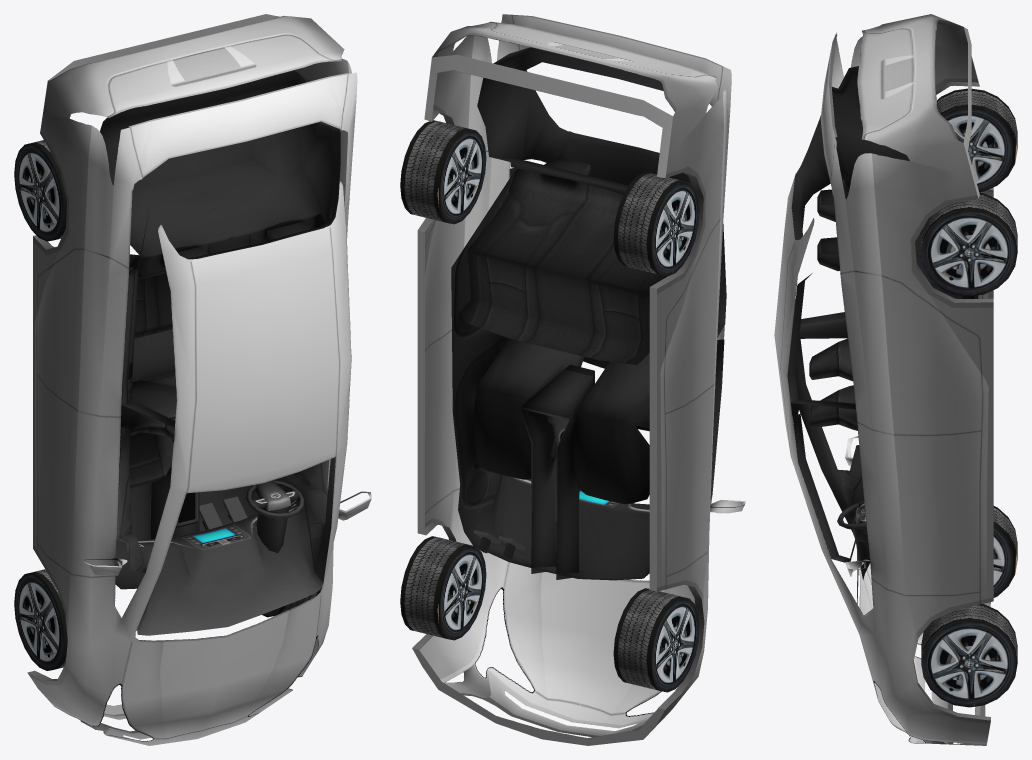
The model's file is Hybrid_body.obj.
The picture shows the model from 3 angles, left to right: view 1: azimuth 30°, elevation 25°; view 2: azimuth 150°, elevation 25°; view 3: azimuth 270°, elevation 25°; orthographic projection. The views are drawn at different scales.
Parts seen in each view (by area): view 1: Hybrid, Hybrid_Interior, Wheel_Front_Right, Wheels_Rear, Steering_Wheel; view 2: Hybrid, Hybrid_Interior, Wheels_Rear, Wheel_Front_Left_, Wheel_Front_Right; view 3: Hybrid, Hybrid_Interior, Wheels_Rear, Wheel_Front_Left_, Wheel_Front_Right, Steering_Wheel.
Part boxes in pixels (<box>): Hybrid: <box>27,14,371,745</box>; Hybrid_Interior: <box>100,70,340,635</box>; Wheel_Front_Right: <box>14,569,67,670</box>; Wheels_Rear: <box>14,140,66,241</box>; Steering_Wheel: <box>246,480,304,518</box>; Hybrid: <box>412,14,745,745</box>; Hybrid_Interior: <box>451,47,726,580</box>; Wheels_Rear: <box>400,120,699,276</box>; Wheel_Front_Left_: <box>400,536,486,640</box>; Wheel_Front_Right: <box>613,588,699,692</box>; Hybrid: <box>774,14,993,745</box>; Hybrid_Interior: <box>787,66,978,604</box>; Wheels_Rear: <box>921,88,1017,296</box>; Wheel_Front_Left_: <box>921,604,1017,707</box>; Wheel_Front_Right: <box>993,506,1017,597</box>; Steering_Wheel: <box>837,501,866,529</box>.
Bounding box in the file's own units: 201 × 462 × 154.
Materials: 3 (3 with a texture image).
